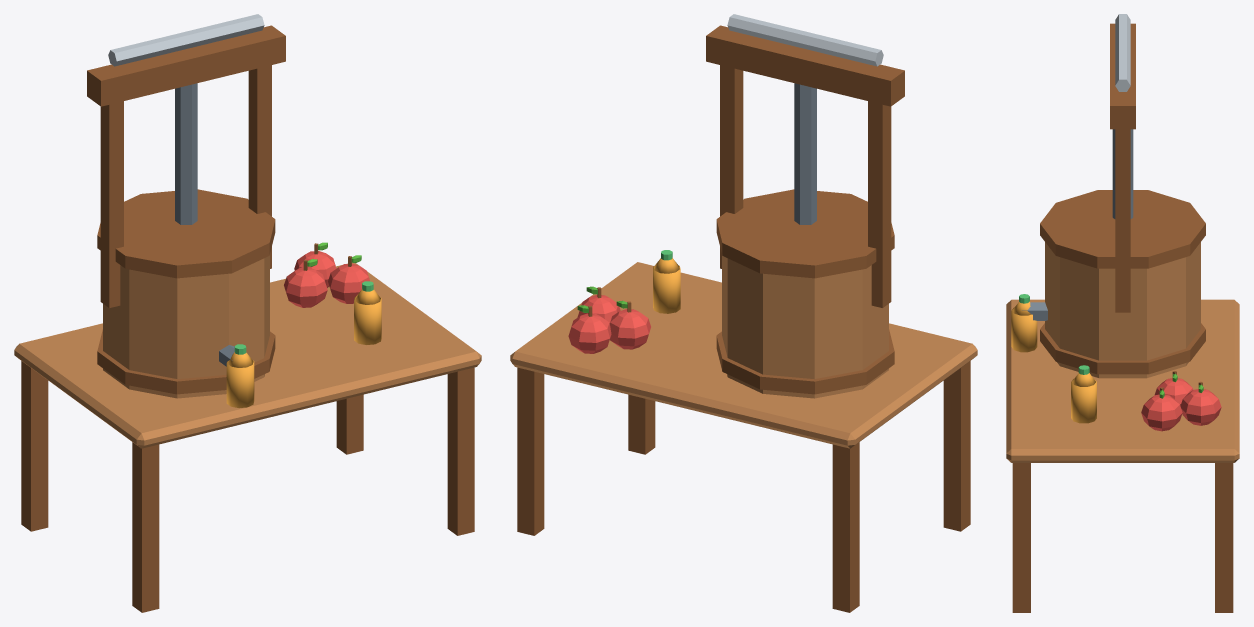
Rendered from station_juice_press.glb.
3 renders of one model, left to right at view 1: azimuth 30°, elevation 25°; view 2: azimuth 150°, elevation 25°; view 3: azimuth 270°, elevation 25°, orthographic. The views are drawn at different scales.
Visible parts, largest first — view 1: station_juice_press; view 2: station_juice_press; view 3: station_juice_press.
Boxes of the visible parts, x1=… form: station_juice_press: x1=14, y1=14, x2=481, y2=612; station_juice_press: x1=510, y1=14, x2=977, y2=612; station_juice_press: x1=1006, y1=14, x2=1239, y2=612.
Size of the model in its own units: 1.4 by 1.98 by 0.9.
